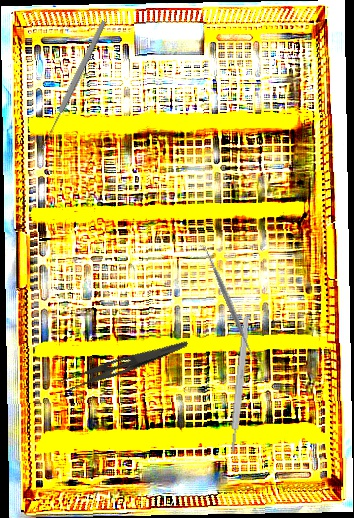Dressing Forceps: (56, 326, 189, 400)
Scalpel Handle: (228, 316, 251, 454)
Spatula Surgical: (197, 240, 262, 366)
Surgical Spoon: (38, 19, 108, 151)
